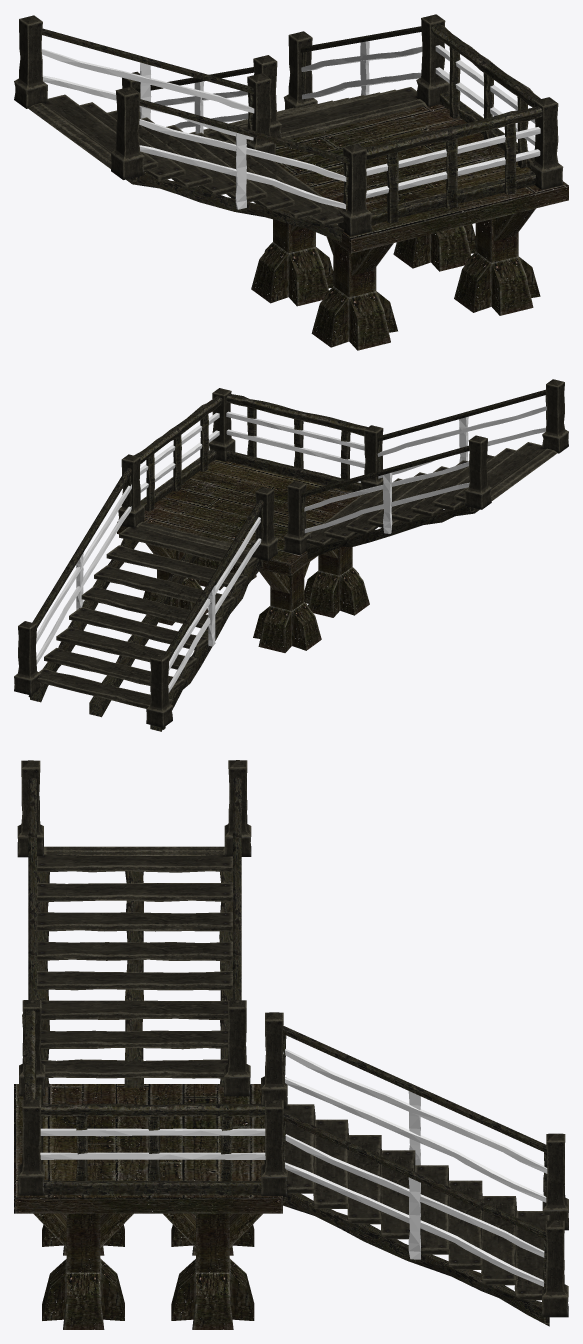
The model's file is stairs_wood.dae.
3 renders of one model, top to bottom at view 1: azimuth 30°, elevation 25°; view 2: azimuth 150°, elevation 25°; view 3: azimuth 270°, elevation 25°, orthographic. The views are drawn at different scales.
Visible parts, largest first — view 1: pCube2_001, Plane, polySurface37_038, polySurface18_002, pCube2_017, pCube2_018, polySurface37_001, polySurface37_021, pCube2_016, polySurface18_001, polySurface37_025, pCube2_014 (+5 smaller); view 2: polySurface37_038, pCube2_001, Plane, polySurface37_026, polySurface37_025, polySurface18_002, pCube2_016, polySurface37_001, pCube2_017, polySurface18_001, polySurface37_021, polySurface26_002 (+4 smaller); view 3: pCube2_001, polySurface37_038, Plane, polySurface37_025, polySurface37_026, polySurface18_001, polySurface37_001, pCube2_018, pCube2_014, polySurface26, pCube2_019, polySurface18_002 (+2 smaller).
Boxes of the visible parts, <box> form: pCube2_001: <box>14,15,371,236</box>; Plane: <box>235,104,568,253</box>; polySurface37_038: <box>122,14,449,144</box>; polySurface18_002: <box>364,106,542,225</box>; pCube2_017: <box>311,195,397,350</box>; pCube2_018: <box>454,161,540,315</box>; polySurface37_001: <box>42,28,349,242</box>; polySurface37_021: <box>41,49,346,209</box>; pCube2_016: <box>251,152,333,306</box>; polySurface18_001: <box>431,23,540,169</box>; polySurface37_025: <box>139,41,422,133</box>; pCube2_014: <box>393,115,475,271</box>; polySurface37_038: <box>14,454,278,729</box>; pCube2_001: <box>283,379,568,554</box>; Plane: <box>117,459,360,575</box>; polySurface37_026: <box>30,468,263,731</box>; polySurface37_025: <box>36,484,261,692</box>; polySurface18_002: <box>226,394,367,492</box>; pCube2_016: <box>253,541,321,652</box>; polySurface37_001: <box>301,389,546,559</box>; pCube2_017: <box>304,499,369,617</box>; polySurface18_001: <box>134,396,222,511</box>; polySurface37_021: <box>304,406,546,532</box>; polySurface26_002: <box>226,411,365,468</box>; pCube2_001: <box>17,760,251,1096</box>; polySurface37_038: <box>261,1012,568,1324</box>; Plane: <box>14,1084,282,1213</box>; polySurface37_025: <box>283,1049,547,1286</box>; polySurface37_026: <box>283,1025,549,1326</box>; polySurface18_001: <box>41,1103,265,1196</box>; polySurface37_001: <box>28,777,241,1103</box>; pCube2_018: <box>17,1185,146,1329</box>; pCube2_014: <box>151,1196,262,1329</box>; polySurface26: <box>40,1128,265,1159</box>; pCube2_019: <box>18,1099,44,1195</box>; polySurface18_002: <box>22,1009,43,1163</box>.
Size of the model in its own units: 8.15 by 8.25 by 5.72.
6 materials, 4 textured.
